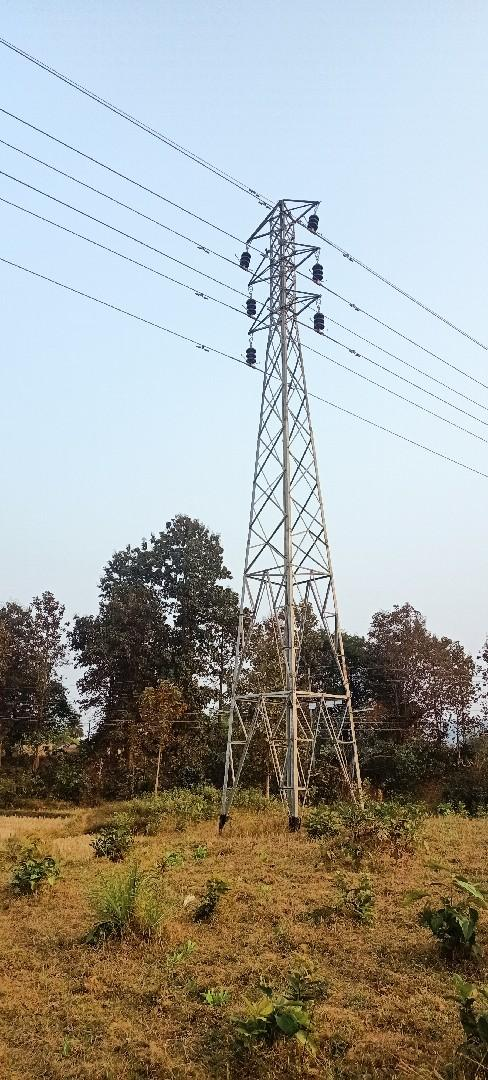GSM Antenna: (216, 195, 369, 791)
